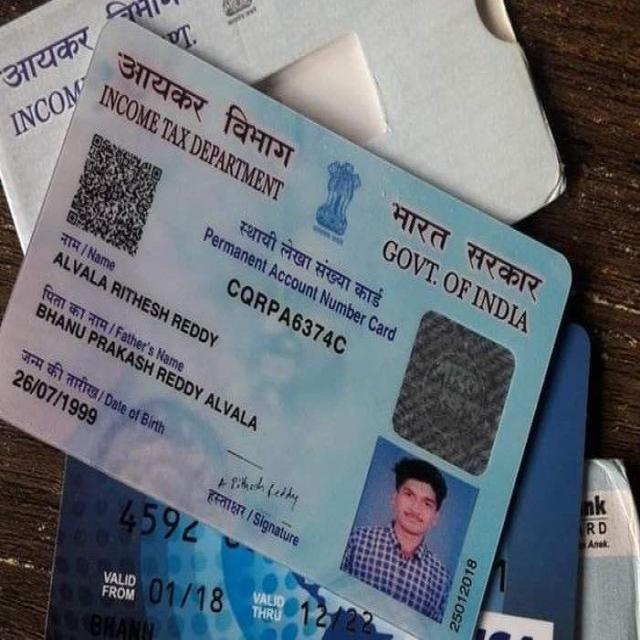pan_card: (0, 17, 567, 640)
